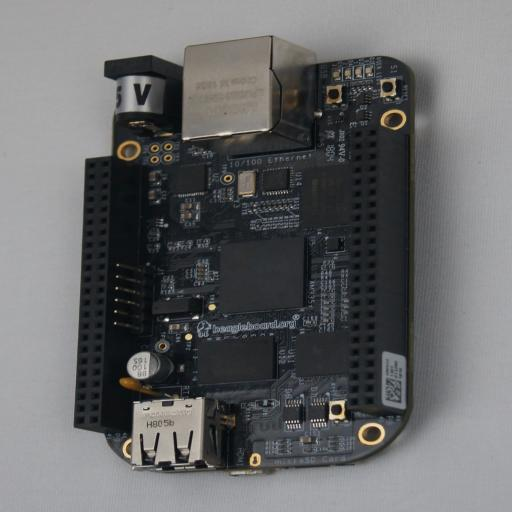Beaglebone Black: (74, 36, 436, 476)
